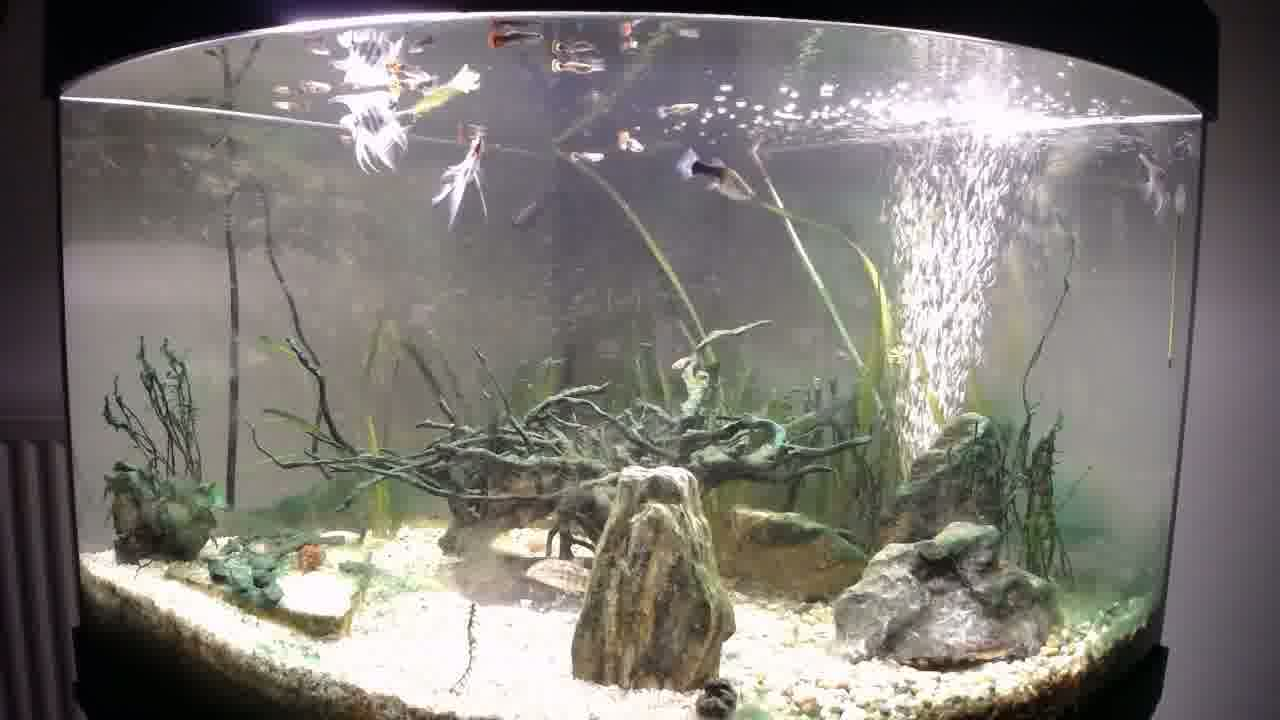Ancistrus: (284, 536, 336, 579)
Botia_Striata: (521, 553, 598, 596)
Corydoras_Panda: (521, 553, 598, 595), (950, 635, 1022, 665)
G_Matriarche: (673, 146, 758, 205)
Pterophyllum_Scalare_BB: (330, 89, 415, 178), (429, 137, 493, 230)
Pterophyllum_Scalare_W: (1133, 152, 1171, 219)
Pterophyllum_Scalare_YWB: (428, 132, 494, 231)
